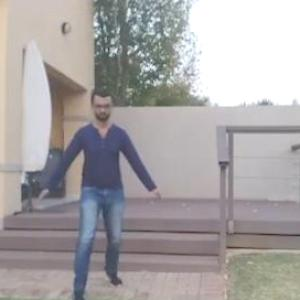land: (25, 75, 162, 299)
